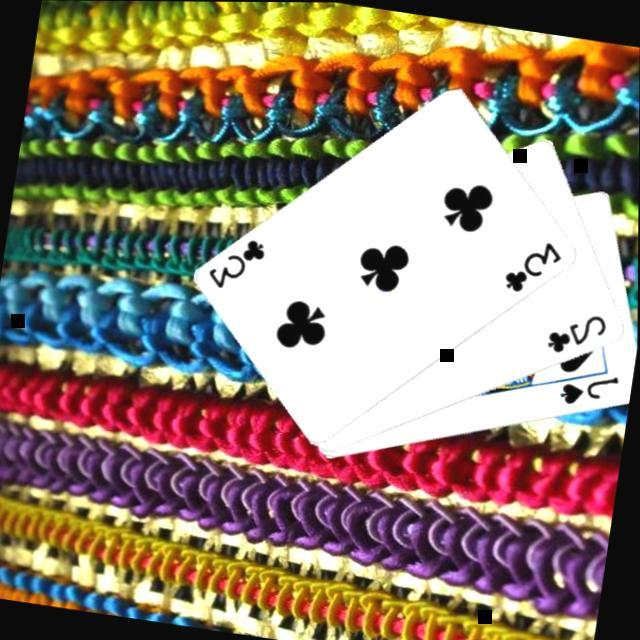2C: (543, 302, 611, 360)
3C: (499, 229, 567, 298), (202, 227, 270, 295)
JS: (556, 362, 623, 411)
